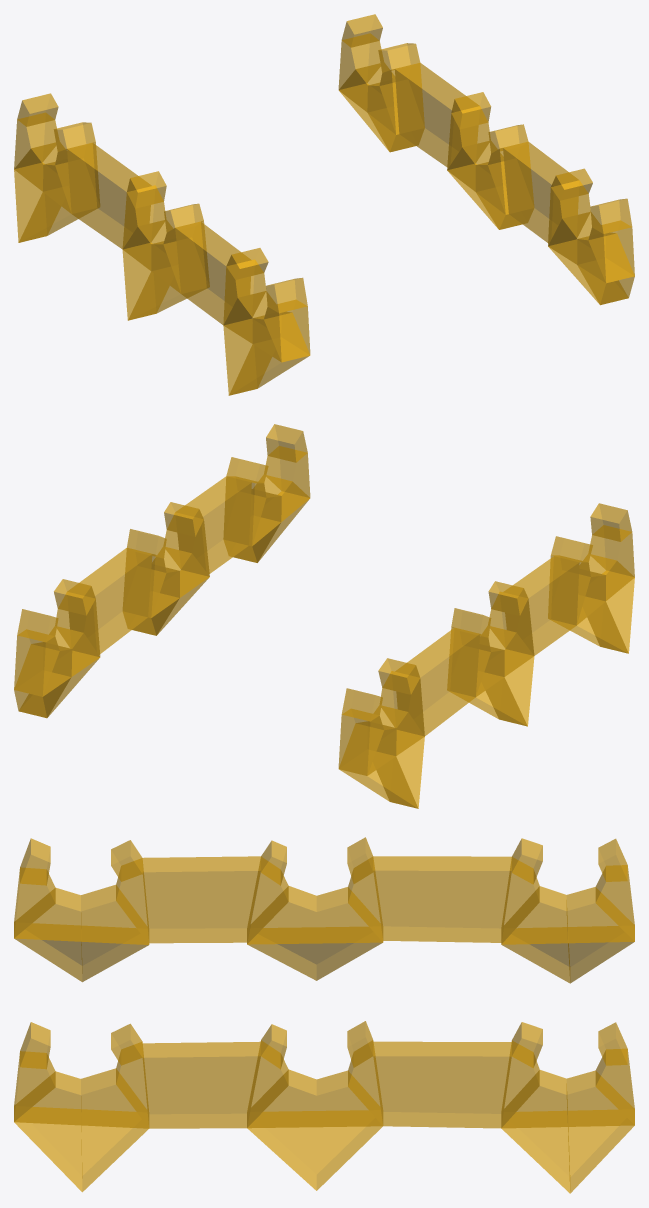
Rendered from SM_Veh_Ship_M_Middle_04_Collision.fbx.
The picture shows the model from 3 angles, top to bottom: view 1: azimuth 30°, elevation 25°; view 2: azimuth 150°, elevation 25°; view 3: azimuth 270°, elevation 25°; orthographic projection. The views are drawn at different scales.
Parts seen in each view (by area): view 1: SM_Veh_Ship_M_Middle_04_Collision; view 2: SM_Veh_Ship_M_Middle_04_Collision; view 3: SM_Veh_Ship_M_Middle_04_Collision.
Boxes of the visible parts, x1,y1,x2,y2 form: SM_Veh_Ship_M_Middle_04_Collision: [14, 14, 634, 395]; SM_Veh_Ship_M_Middle_04_Collision: [14, 424, 634, 808]; SM_Veh_Ship_M_Middle_04_Collision: [14, 837, 634, 1193].
Size of the model in its own units: 821 by 243 by 951.
